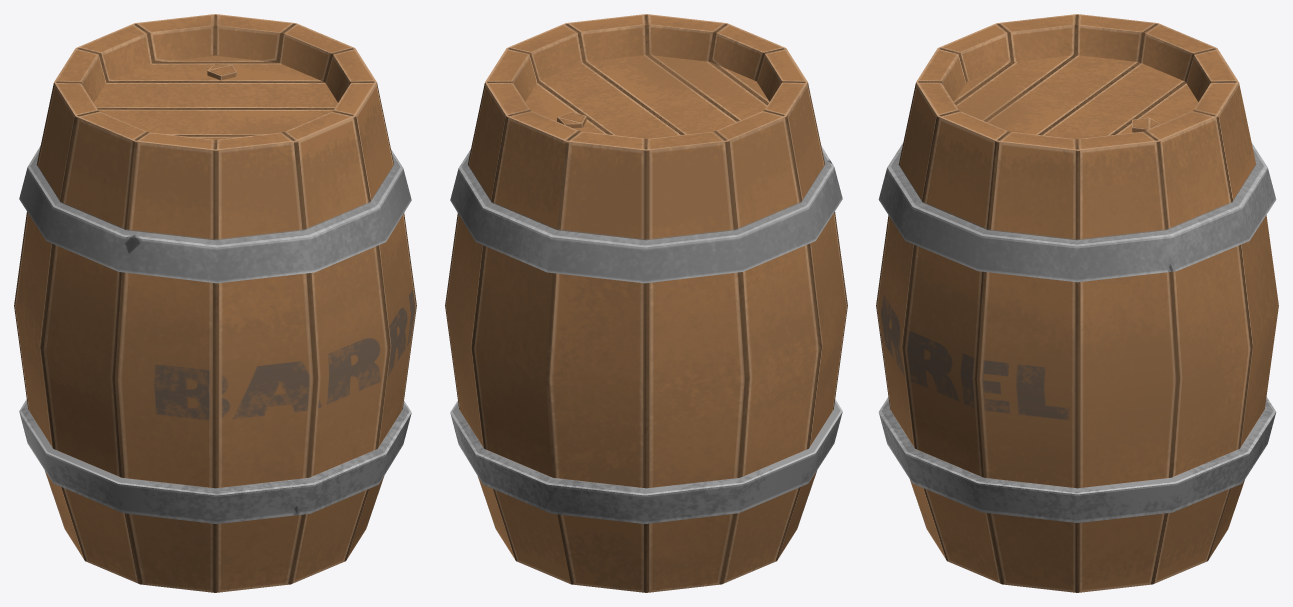
The model's file is Barrel.fbx.
3 renders of one model, left to right at view 1: azimuth 30°, elevation 25°; view 2: azimuth 150°, elevation 25°; view 3: azimuth 270°, elevation 25°, orthographic.
Visible parts, largest first — view 1: Barrel; view 2: Barrel; view 3: Barrel.
Boxes of the visible parts, <box> form: Barrel: <box>14,14,416,592</box>; Barrel: <box>445,14,847,592</box>; Barrel: <box>876,14,1278,592</box>.
Bounding box in the file's own units: 73.52 × 90 × 73.52.
